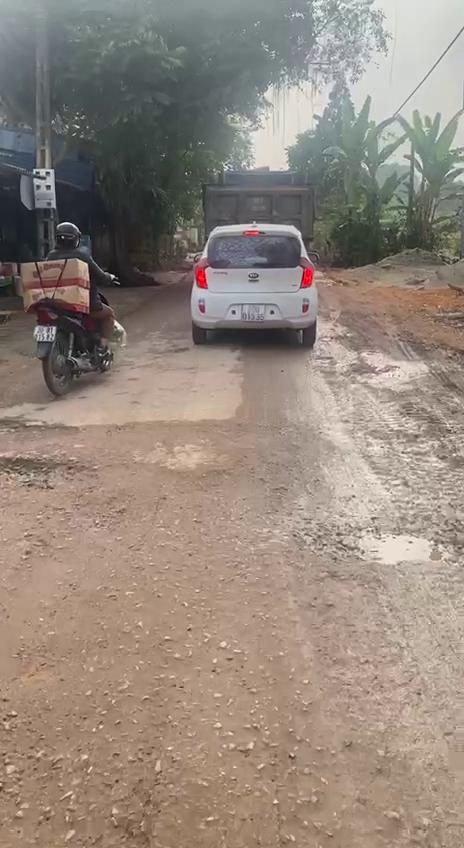pothole: (331, 514, 464, 571), (0, 456, 87, 488)
